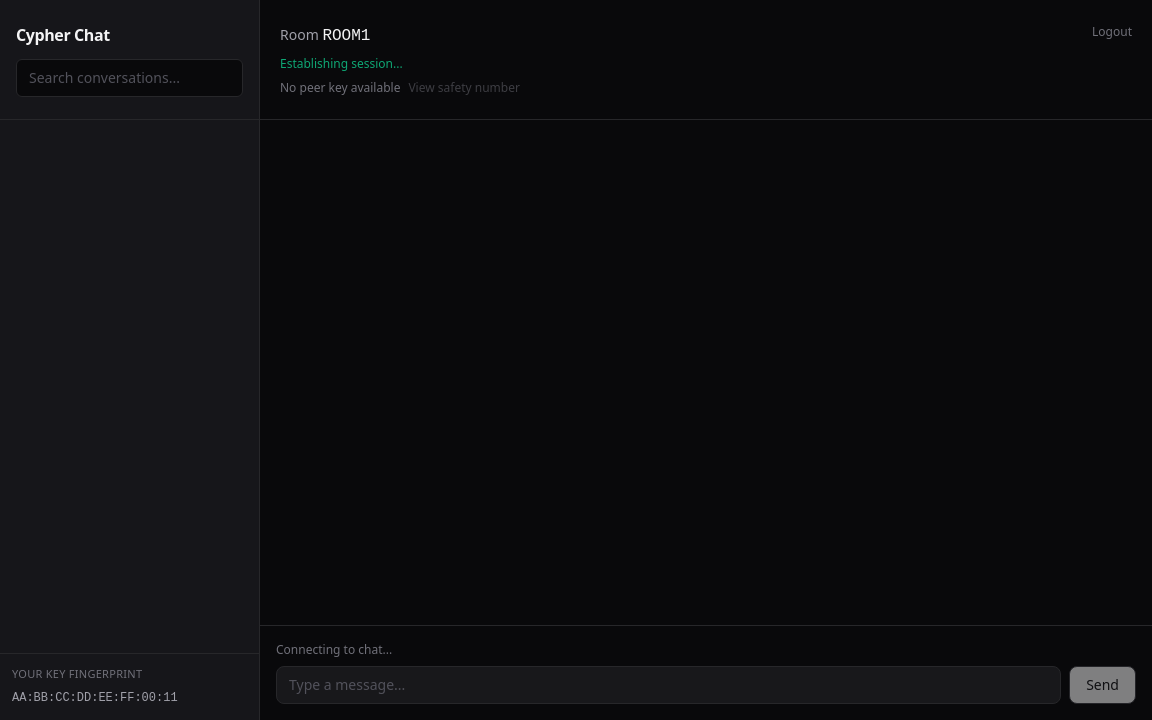
Test case: ChatRoom integration › flushes a queued message after room readiness is restored
In the field with placeholder "Type a message...": (669,685) [276,666,1061,704], type "flush me"
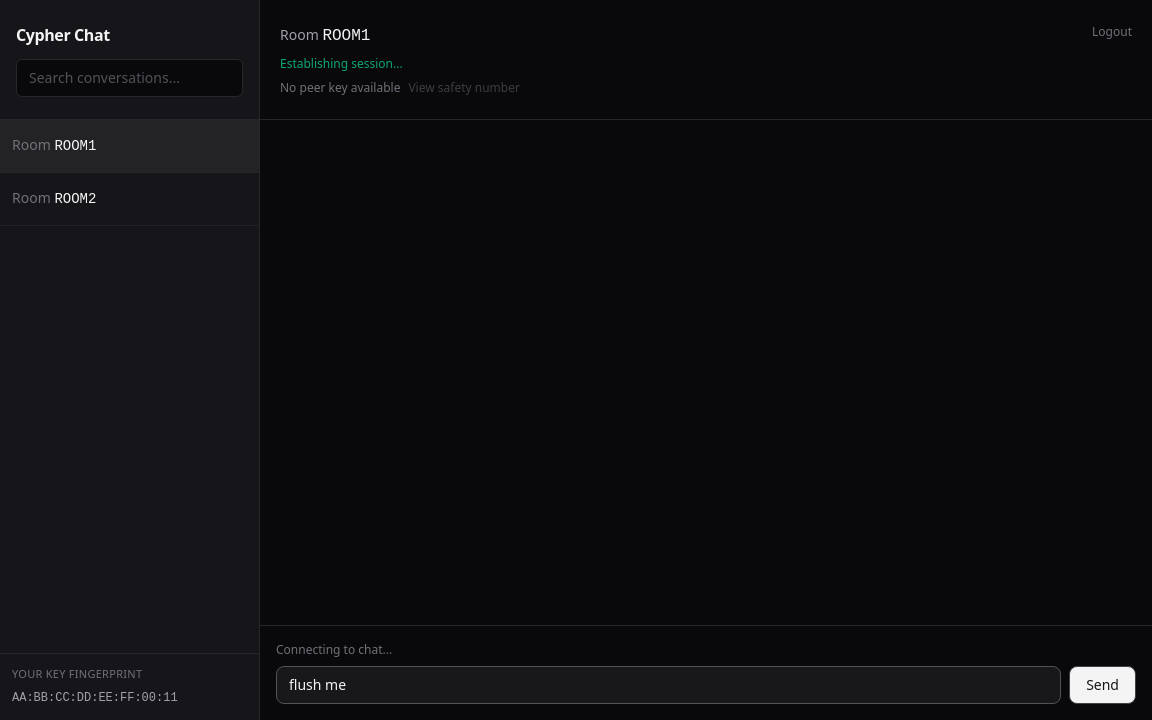
Click the button "Send": (1103,685) [1069,666,1136,704]
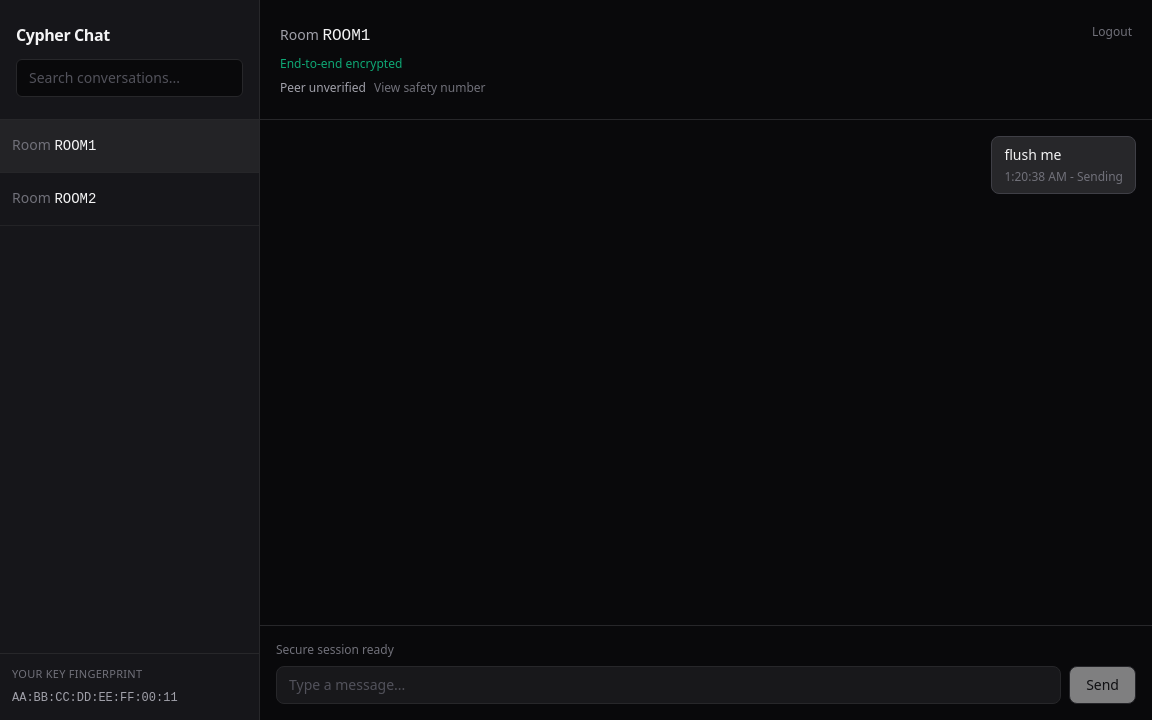
Check: the text "flush me" is shown, box [1004,145,1062,164]
